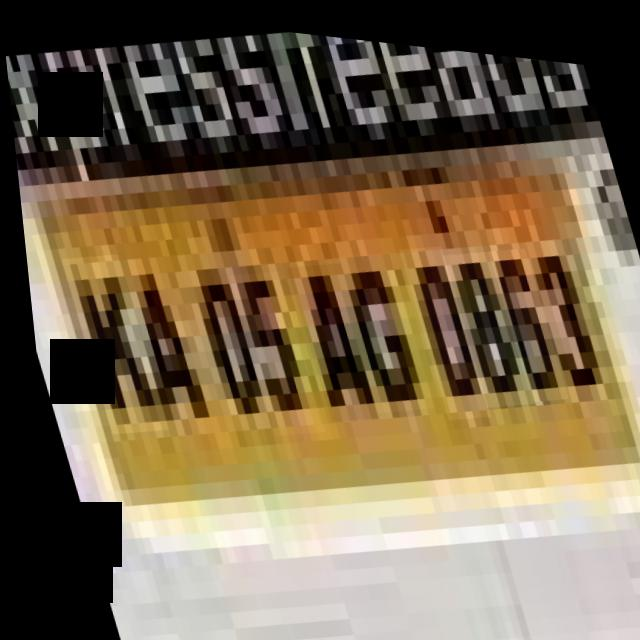0: (178, 262, 270, 441), (394, 233, 484, 414)
3: (515, 221, 606, 398)
5: (223, 261, 318, 435)
6: (483, 233, 563, 394)
8: (437, 236, 530, 402)
A: (118, 259, 216, 450), (281, 250, 378, 420)
G: (327, 239, 428, 410)
K: (55, 247, 160, 438)
